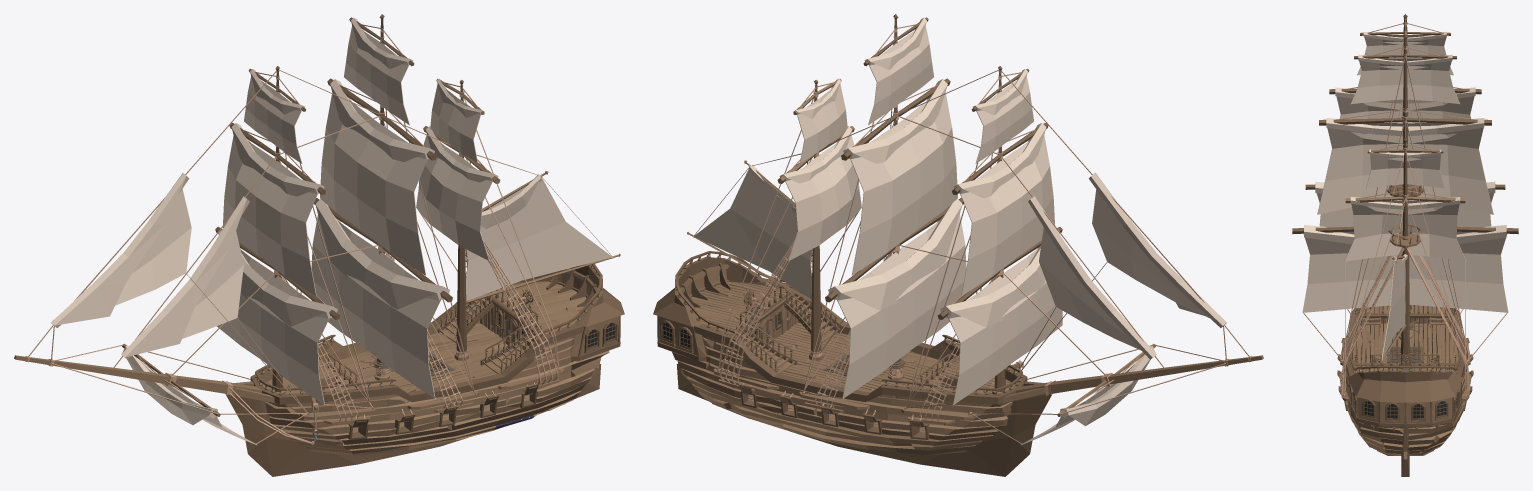
Rendered from Ship.fbx.
The picture shows the model from 3 angles, left to right: view 1: azimuth 30°, elevation 25°; view 2: azimuth 150°, elevation 25°; view 3: azimuth 270°, elevation 25°; orthographic projection. The views are drawn at different scales.
Parts seen in each view (by area): view 1: Ship, MainMastSail02_Lowered, MainMastSail01_Lowered, MainSail_Lowered, ForemastSail02_Lowered, ForemastSail01_Lowered, MizzenSail01_Lowered, MainMastSail01_Raised, JibSail02_Raised, JibSail01_Raised, JibSail01_Lowered, MainMastSail03_Lowered (+20 smaller); view 2: Ship, MainMastSail02_Lowered, MainMastSail01_Lowered, ForemastSail02_Lowered, ForemastSail01_Lowered, MainSail_Lowered, MizzenSail01_Lowered, MainMastSail01_Raised, JibSail01_Lowered, JibSail02_Lowered, MainMastSail03_Lowered, ForemastSail01_Raised (+19 smaller); view 3: Ship, MainMastSail01_Lowered, MainMastSail02_Lowered, MizzenSail01_Lowered, MainMastSail03_Lowered, Mizzen, MizzenSail02_Lowered, Main Mast, MainMastSail02_Raised, ForemastSail02_Lowered, ForemastSail03_Lowered, MainSail_Lowered (+21 smaller).
Boxes of the visible parts, <box> form: Ship: <box>14,263,624,476</box>; MainMastSail02_Lowered: <box>320,93,427,275</box>; MainMastSail01_Lowered: <box>311,215,441,398</box>; MainSail_Lowered: <box>466,177,611,300</box>; ForemastSail02_Lowered: <box>222,136,317,296</box>; ForemastSail01_Lowered: <box>216,249,330,404</box>; MizzenSail01_Lowered: <box>416,135,492,260</box>; MainMastSail01_Raised: <box>315,199,449,309</box>; JibSail02_Raised: <box>121,196,249,359</box>; JibSail01_Raised: <box>51,173,189,327</box>; JibSail01_Lowered: <box>115,189,191,305</box>; MainMastSail03_Lowered: <box>344,26,409,125</box>; Ship: <box>653,251,1263,476</box>; MainMastSail02_Lowered: <box>850,92,957,275</box>; MainMastSail01_Lowered: <box>836,214,966,398</box>; ForemastSail02_Lowered: <box>960,135,1054,296</box>; ForemastSail01_Lowered: <box>947,248,1062,404</box>; MainSail_Lowered: <box>694,168,811,298</box>; MizzenSail01_Lowered: <box>785,135,861,260</box>; MainMastSail01_Raised: <box>828,199,962,310</box>; JibSail01_Lowered: <box>1092,189,1208,317</box>; JibSail02_Lowered: <box>1039,227,1140,350</box>; MainMastSail03_Lowered: <box>868,26,933,125</box>; ForemastSail01_Raised: <box>940,231,1059,327</box>; Ship: <box>1337,305,1473,476</box>; MainMastSail01_Lowered: <box>1302,231,1508,312</box>; MainMastSail02_Lowered: <box>1317,122,1493,214</box>; MizzenSail01_Lowered: <box>1344,200,1466,261</box>; MainMastSail03_Lowered: <box>1351,57,1459,103</box>; Mizzen: <box>1345,138,1465,394</box>; MizzenSail02_Lowered: <box>1366,152,1444,188</box>; Main Mast: <box>1342,35,1468,359</box>; MainMastSail02_Raised: <box>1326,118,1484,143</box>; ForemastSail02_Lowered: <box>1336,96,1474,122</box>; ForemastSail03_Lowered: <box>1357,34,1453,75</box>; MainSail_Lowered: <box>1382,258,1405,359</box>.
Bounding box in the file's own units: 96.55 × 69.22 × 38.28.
